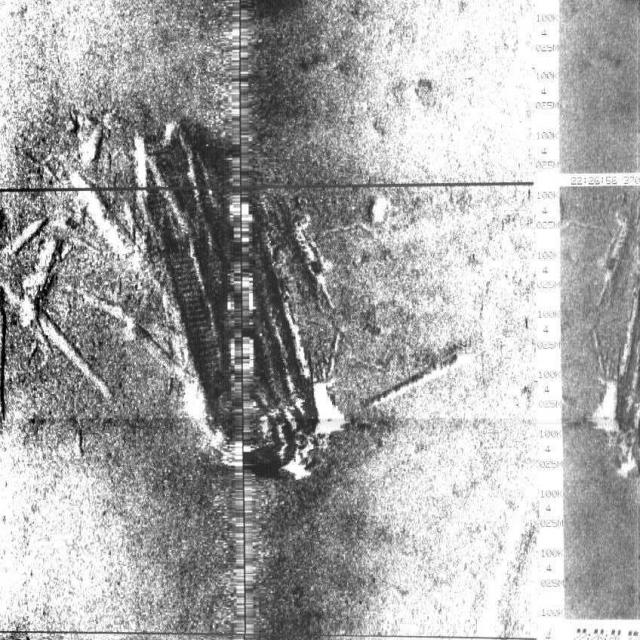ship: (129, 128, 346, 483)
